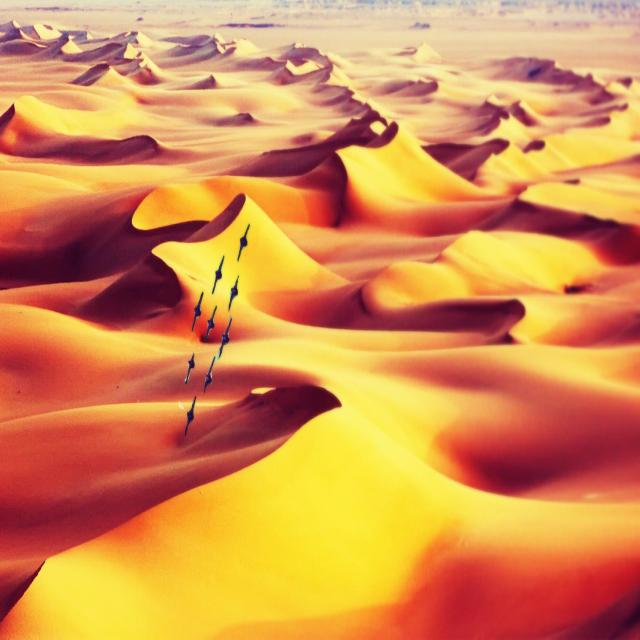airplane: (210, 255, 224, 296), (219, 316, 232, 360), (190, 291, 204, 329), (237, 223, 250, 262), (184, 393, 196, 434), (203, 356, 216, 391), (205, 304, 217, 339), (228, 275, 239, 311), (185, 351, 195, 387)
